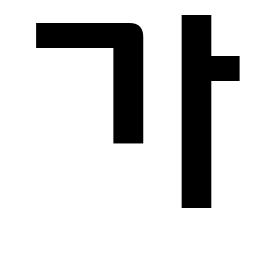Gaji: (162, 45, 228, 101)
